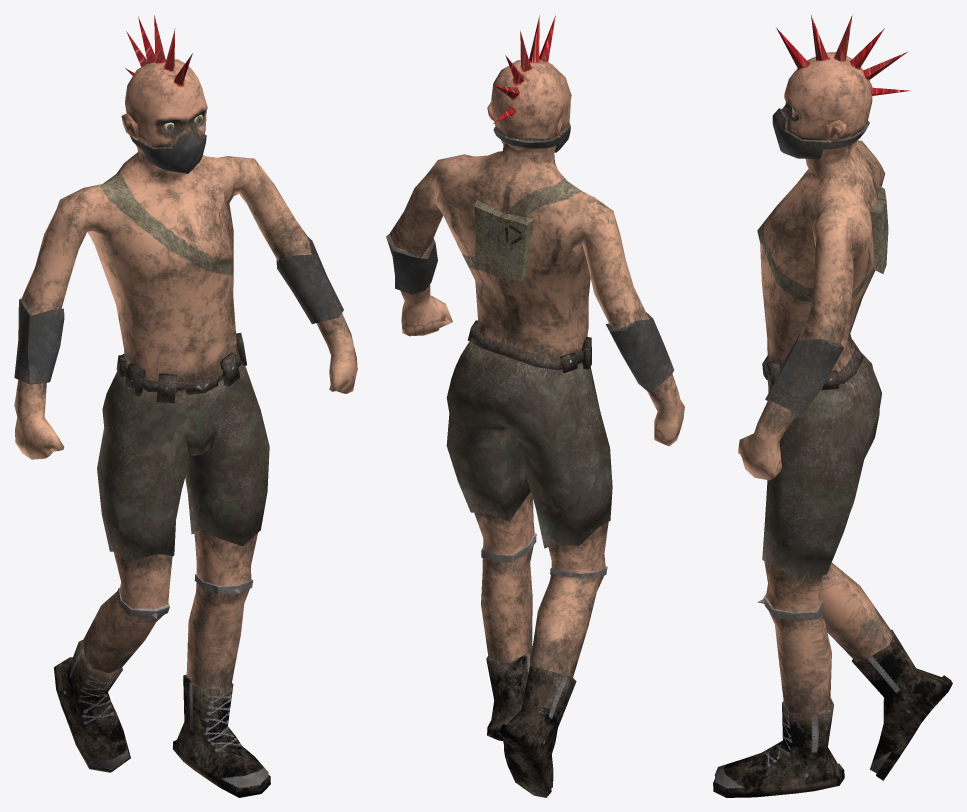
The model's file is Anim_andar_npc2.0036.obj.
3 renders of one model, left to right at view 1: azimuth 30°, elevation 25°; view 2: azimuth 150°, elevation 25°; view 3: azimuth 270°, elevation 25°, orthographic. The views are drawn at different scales.
Visible parts, largest first — view 1: Anim_andar_npc2; view 2: Anim_andar_npc2; view 3: Anim_andar_npc2.
Part boxes in pixels (left/top/right/bottom): Anim_andar_npc2: left=14, top=15, right=357, bottom=797; Anim_andar_npc2: left=386, top=15, right=684, bottom=797; Anim_andar_npc2: left=713, top=15, right=952, bottom=797.
Size of the model in its own units: 4.47 by 10.46 by 2.91.
